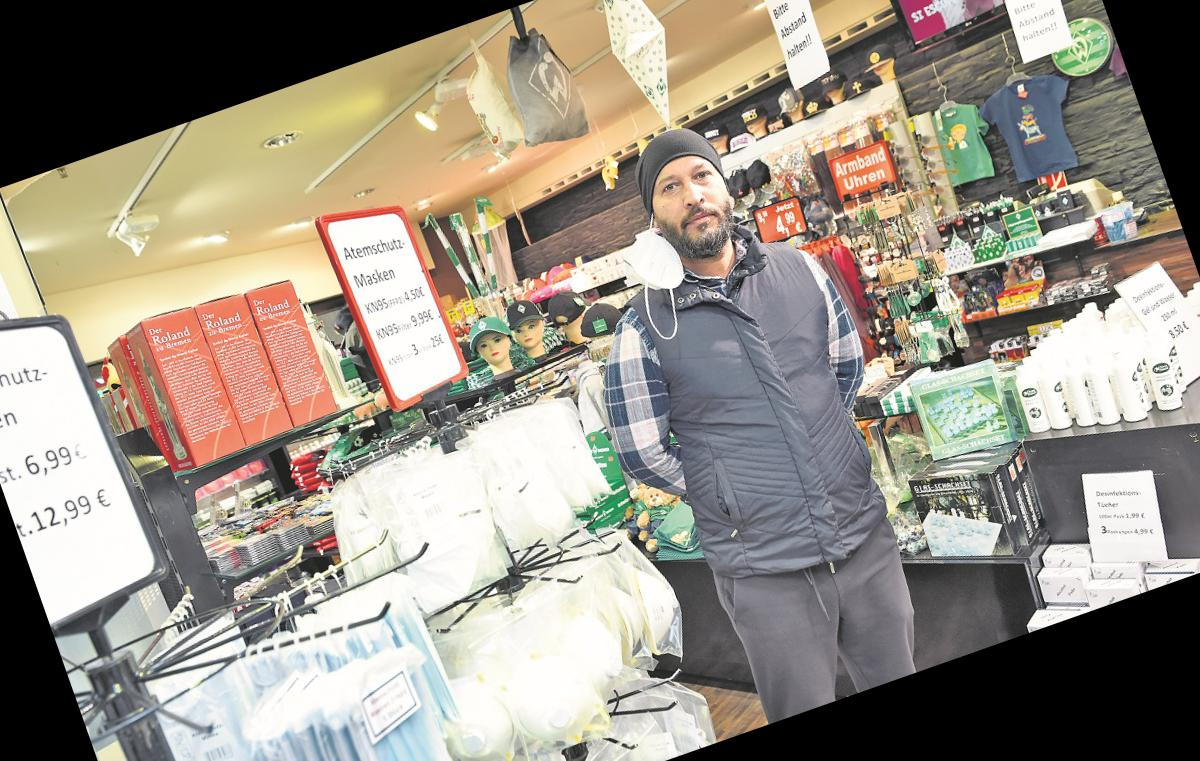without_mask: (657, 160, 738, 258)
